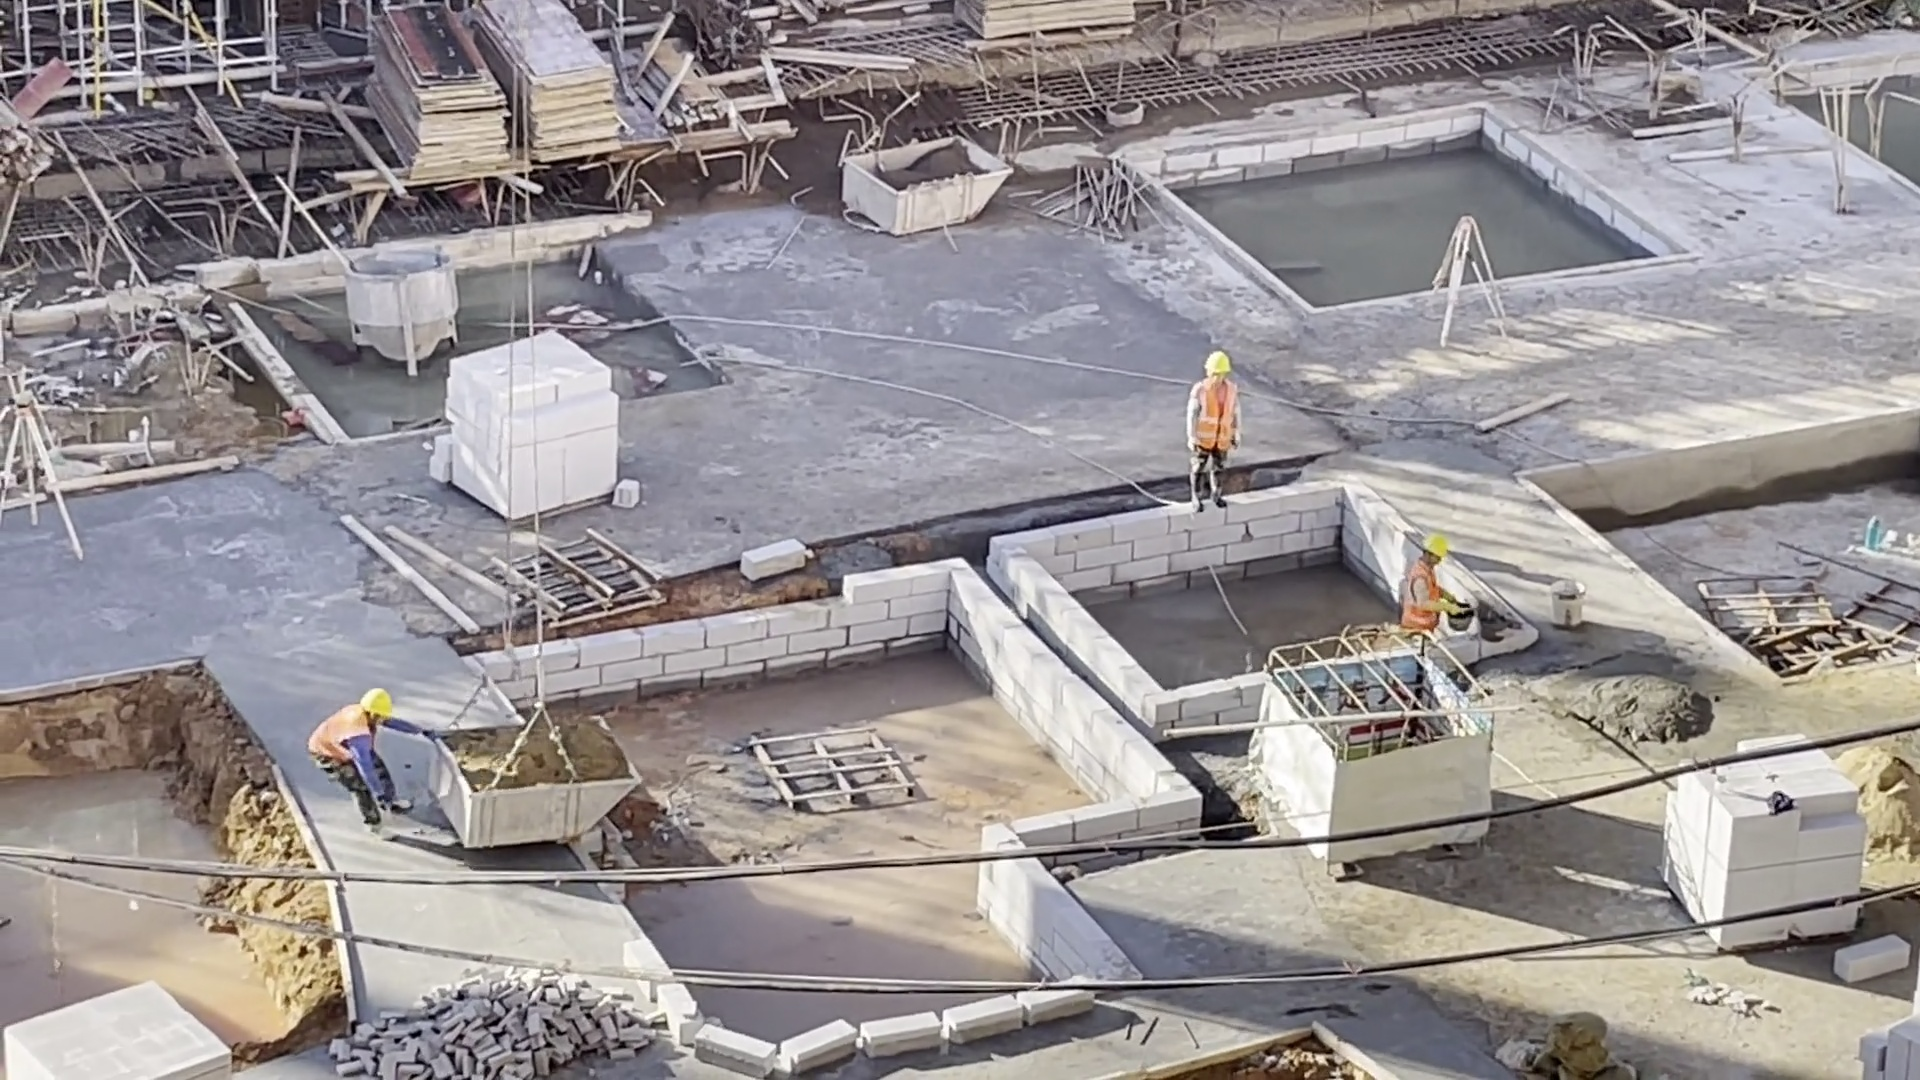board: (362, 5, 515, 190), (474, 5, 629, 168), (944, 2, 1145, 56)
brick: (427, 326, 621, 527), (1657, 778, 1864, 902), (1, 972, 239, 1079)
helmet: (358, 686, 396, 717), (1197, 350, 1235, 375), (1419, 531, 1448, 558)
hopper: (421, 715, 645, 852), (832, 124, 1022, 238), (341, 246, 460, 380)
person: (310, 685, 443, 847), (1183, 349, 1246, 511), (1395, 529, 1458, 633)
vest: (310, 705, 375, 771), (1189, 377, 1234, 452), (1405, 564, 1440, 629)
wood: (4, 97, 54, 197)
